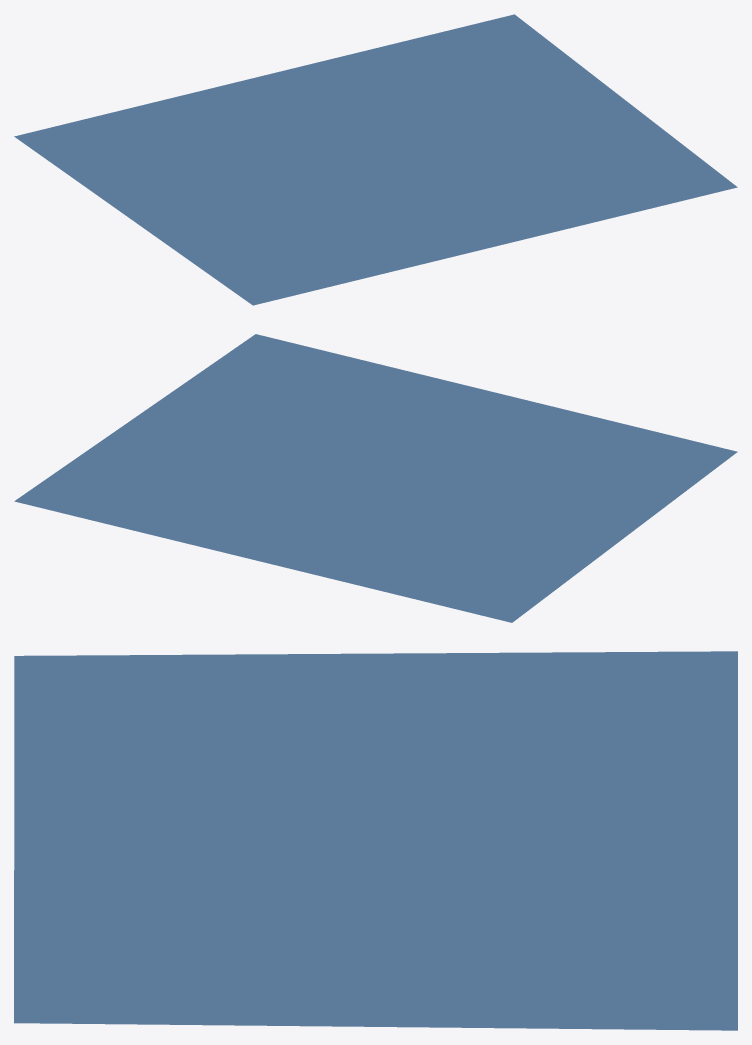
Rendered from BH_BodgePlate.glb.
3 renders of one model, top to bottom at view 1: azimuth 30°, elevation 25°; view 2: azimuth 150°, elevation 25°; view 3: azimuth 270°, elevation 25°, orthographic. The views are drawn at different scales.
Parts seen in each view (by area): view 1: BH_BODGEPLATE; view 2: BH_BODGEPLATE; view 3: BH_BODGEPLATE.
Boxes of the visible parts, x1,y1,x2,y2 form: BH_BODGEPLATE: [14, 14, 737, 305]; BH_BODGEPLATE: [14, 334, 737, 622]; BH_BODGEPLATE: [14, 651, 737, 1030].
Size of the model in its own units: 2.24 by 0 by 1.81.
